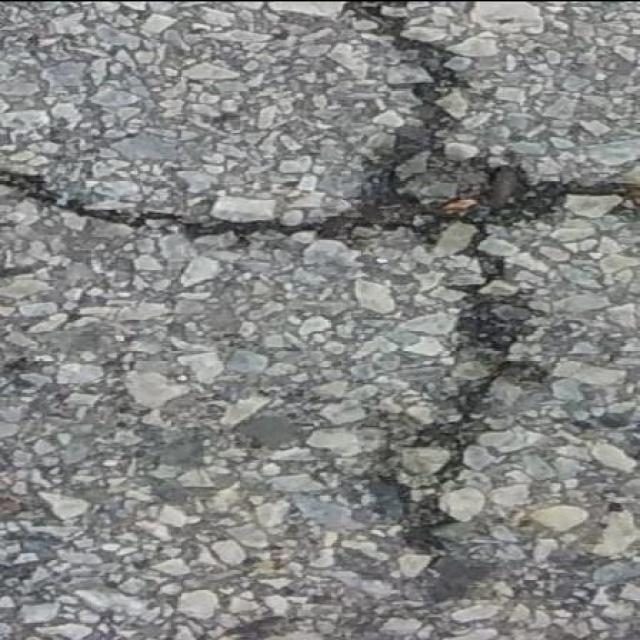Crack: (0, 38, 633, 546), (351, 0, 418, 32), (388, 472, 398, 490)
